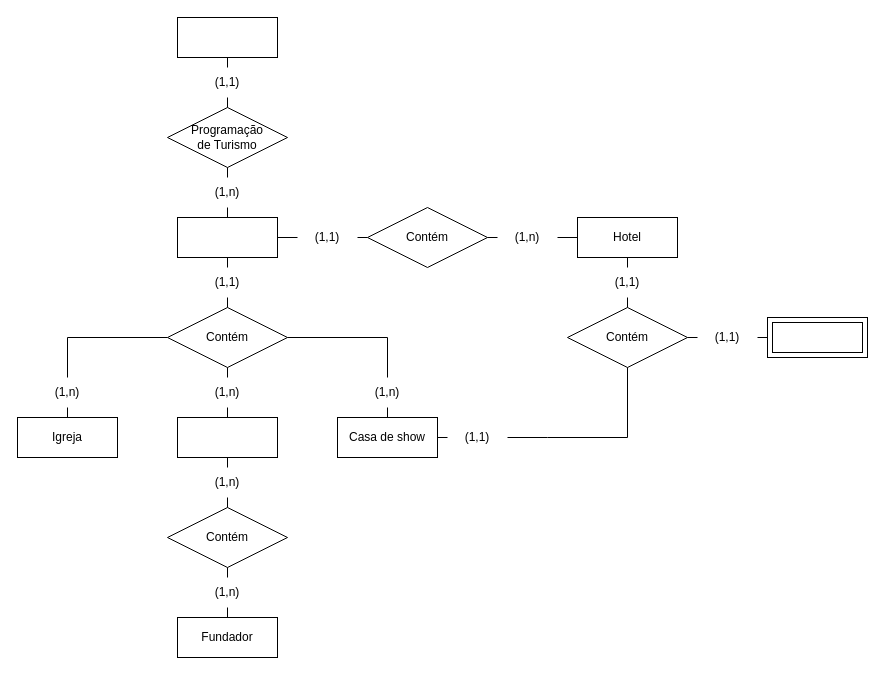
Some shapes in this 885 by 675 pixel diagram are drawn without their labels. The shapes that lost their labels are listed below. From the top down, each one's centre as x and y in pixels, then its label:
[227,37]: Agencia
[227,237]: Cidades
[817,337]: Restaurante
[227,437]: Museu
